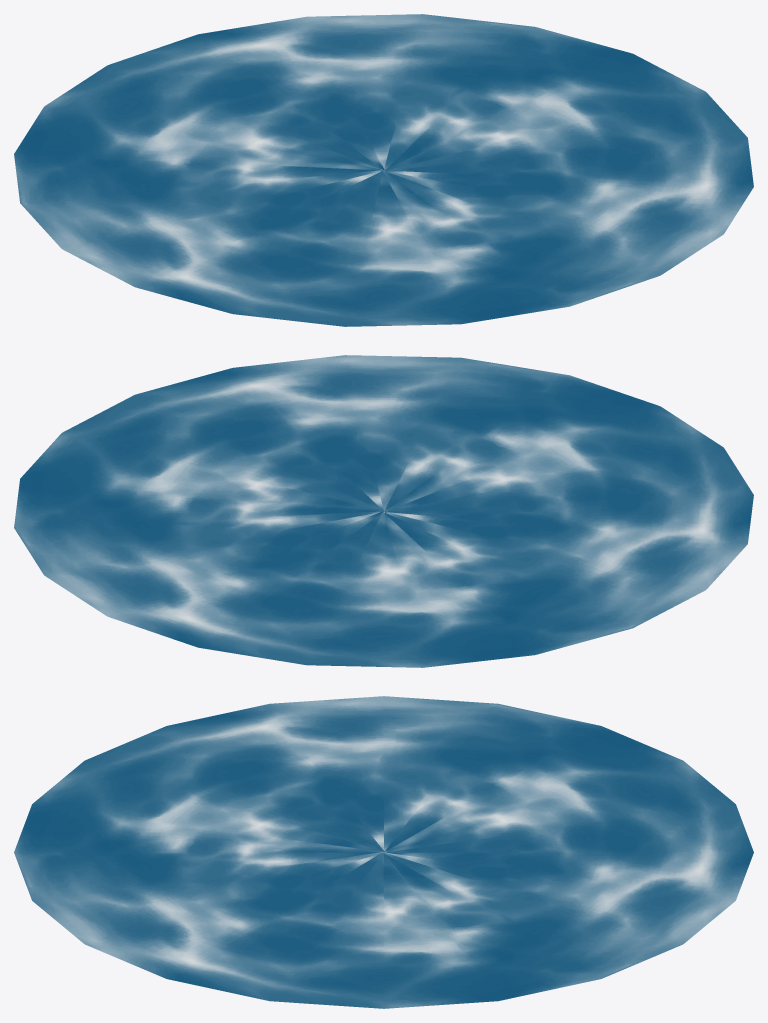
The model's file is ef-common-w3-skill0080_plane.FBX.
3 views of the same model, one above another, from view 1: azimuth 30°, elevation 25°; view 2: azimuth 150°, elevation 25°; view 3: azimuth 270°, elevation 25° (orthographic).
Visible parts, largest first — view 1: ef-common-w3-skill0080_plane; view 2: ef-common-w3-skill0080_plane; view 3: ef-common-w3-skill0080_plane.
Boxes of the visible parts, x1,y1,x2,y2 form: ef-common-w3-skill0080_plane: (14, 14, 753, 326); ef-common-w3-skill0080_plane: (14, 355, 753, 667); ef-common-w3-skill0080_plane: (14, 696, 753, 1008).
Bounding box in the file's own units: 65.75 × 6.41e-06 × 65.75.
